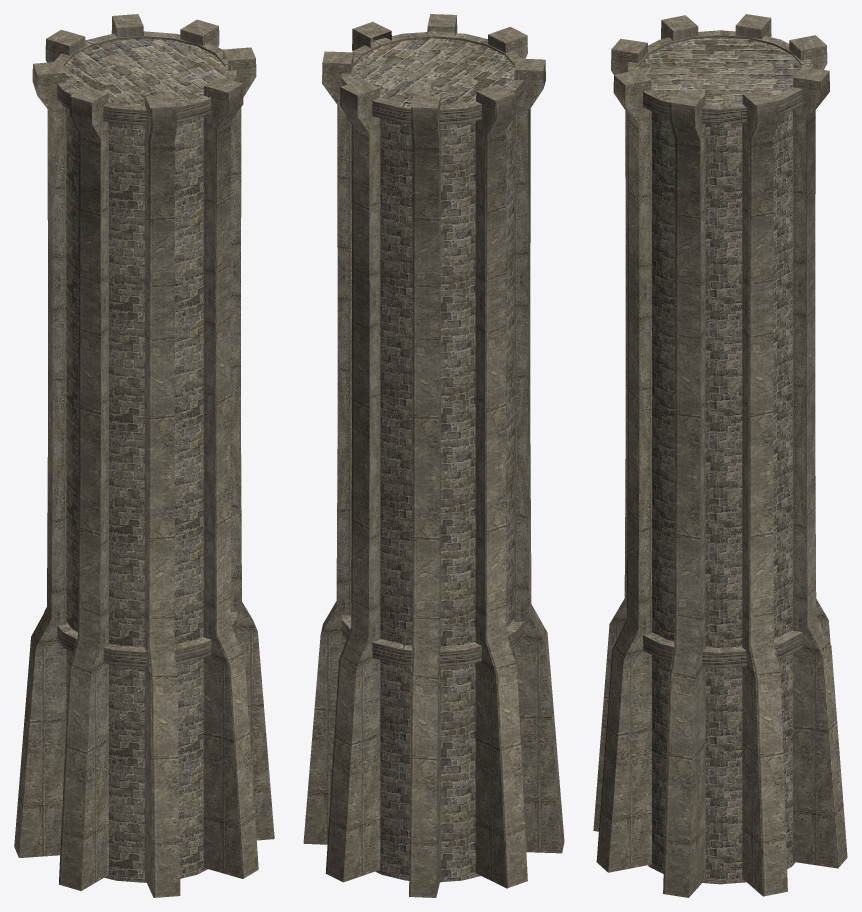
File: SM_Plains_CastleTower_01.FBX
3 renders of one model, left to right at view 1: azimuth 30°, elevation 25°; view 2: azimuth 150°, elevation 25°; view 3: azimuth 270°, elevation 25°, orthographic.
Parts seen in each view (by area): view 1: SM_Plains_CastleTower_01a, SM_Plains_CastleTower_01b; view 2: SM_Plains_CastleTower_01a, SM_Plains_CastleTower_01b; view 3: SM_Plains_CastleTower_01a, SM_Plains_CastleTower_01b.
Part boxes in pixels (x1,y1,x2,y2): SM_Plains_CastleTower_01a: (14,14,274,897); SM_Plains_CastleTower_01b: (64,38,225,882); SM_Plains_CastleTower_01a: (303,14,564,897); SM_Plains_CastleTower_01b: (353,38,514,882); SM_Plains_CastleTower_01a: (593,14,847,897); SM_Plains_CastleTower_01b: (639,37,801,884).
Size of the model in its own units: 344 by 1178 by 344.
